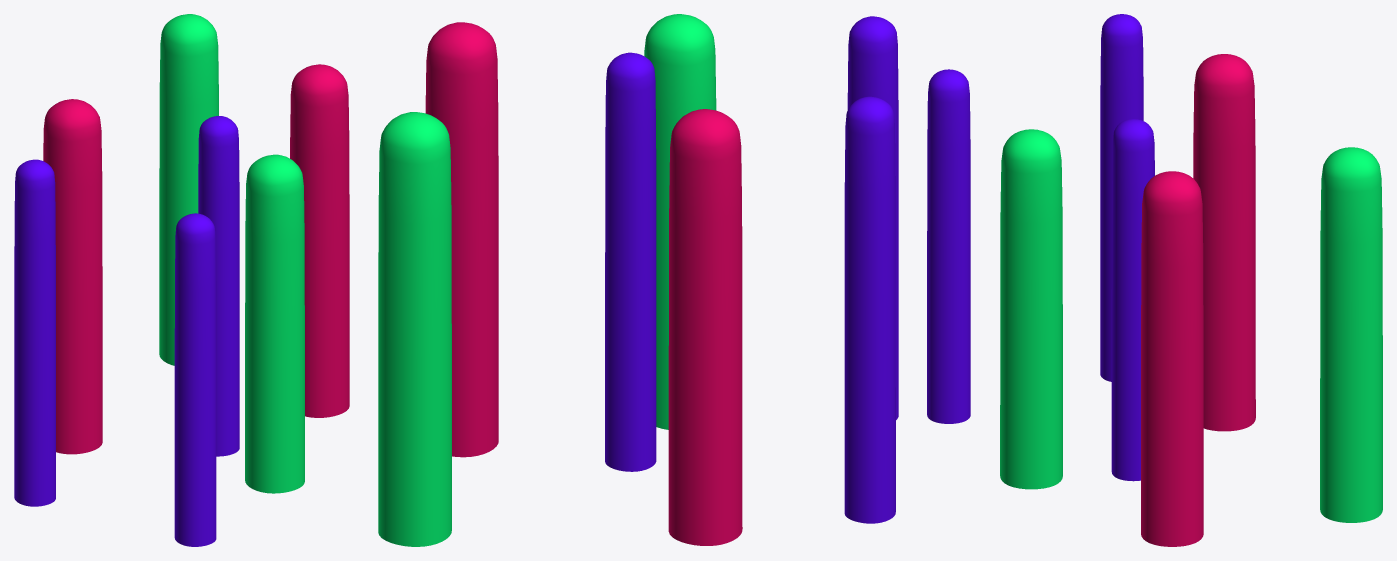
The model's file is playground4.fbx.
3 renders of one model, left to right at view 1: azimuth 30°, elevation 25°; view 2: azimuth 150°, elevation 25°; view 3: azimuth 270°, elevation 25°, orthographic. The views are drawn at different scales.
Parts seen in each view (by area): view 1: Cube.003; view 2: Cube.003; view 3: Cube.003.
Boxes of the visible parts, x1=… form: Cube.003: x1=14, y1=14, x2=349, y2=546; Cube.003: x1=378, y1=14, x2=898, y2=546; Cube.003: x1=927, y1=14, x2=1382, y2=546.
Size of the model in its own units: 8101 by 7477 by 8553.
